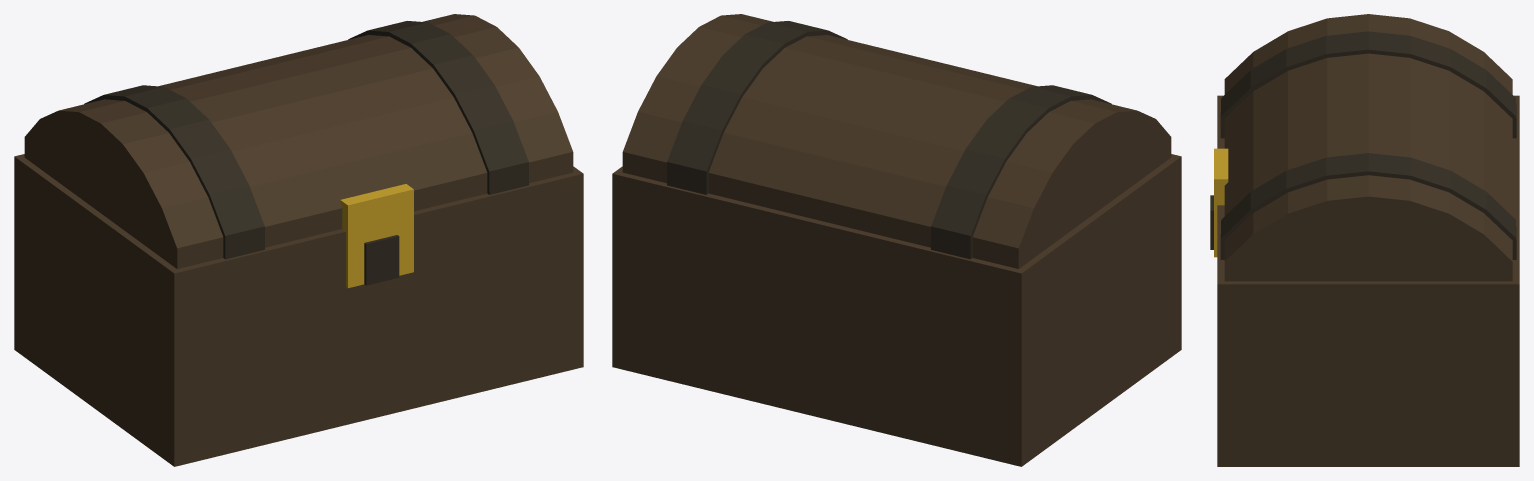
Rendered from LairStrongbox.fbx.
The picture shows the model from 3 angles, left to right: view 1: azimuth 30°, elevation 25°; view 2: azimuth 150°, elevation 25°; view 3: azimuth 270°, elevation 25°; orthographic projection. The views are drawn at different scales.
Parts seen in each view (by area): view 1: LairStrongbox; view 2: LairStrongbox; view 3: LairStrongbox.
Part boxes in pixels (<box>): LairStrongbox: <box>14,14,583,466</box>; LairStrongbox: <box>612,14,1181,466</box>; LairStrongbox: <box>1210,14,1519,466</box>.
Size of the model in its own units: 62 by 41.6 by 43.
Materials: 3 (3 with a texture image).
